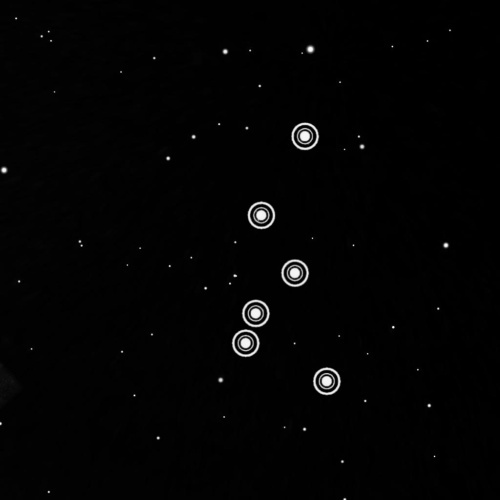cassiopeia: (226, 117, 345, 402)
